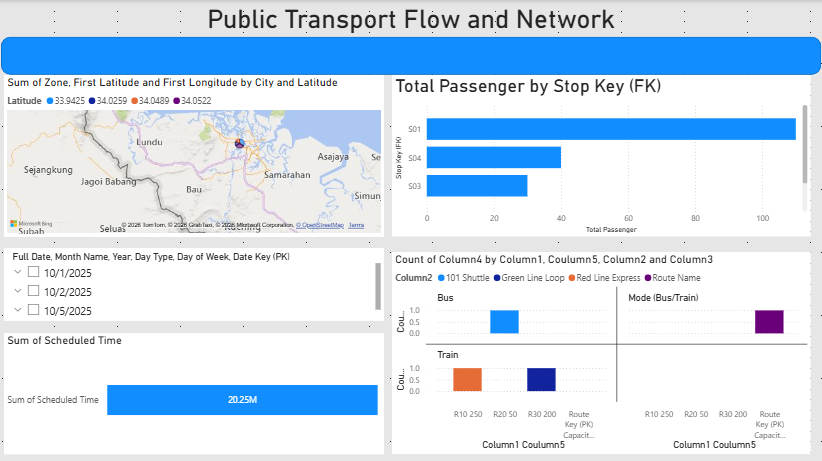

What the dashboard file says about the page in this screenshot:
{"tool":"powerbi","page":{"name":"Page 1","canvas":[1280,720],"ordinal":0},"visuals":[{"type":"map","fields":{"Series":["Dim Stop/Station.Latitude"],"Category":["Dim Stop/Station.City"],"Size":["Max(Dim Stop/Station.Zone)"],"Y":["Max(Dim Stop/Station.Longitude)"]},"box":[20.2,114.5,579.4,245.9],"z":0},{"type":"shape","title":"Public Transport Flow and Network  ","box":[15.2,6.7,1249.7,107.8],"z":1000},{"type":"barChart","fields":{"Series":["Actual Trips.Route Key (FK)"],"Y":["Actual Trips.Total Passenger"]},"box":[611.4,114.5,638.3,245.9],"z":2000},{"type":"slicer","fields":{"Values":["Dim Date.Full Date","Dim Date.Month Name","Dim Date.Year","Dim Date.Day Type","Dim Date.Day of Week","Dim Date.Date Key (PK)"]},"box":[19.8,377.9,579,114.3],"z":3000},{"type":"columnChart","fields":{"Category":["Dim Route.Column1"],"Series":["Dim Route.Column2"],"Rows":["Dim Route.Column3","Dim Route.Coulumn5"],"Y":["CountNonNull(Dim Route.Column4)"]},"box":[611.4,384,638.3,308.2],"z":4000},{"type":"funnel","fields":{"Y":["Sum(Scheduled Time.Scheduled Time)"]},"box":[20.2,506.9,579.4,185.3],"z":5000}]}

Visuals, with their boxes in screenshot pixels (x1, y1, x2, y2), scaled from the page's 1280x720 canvas onto the 822x461 screenshot:
map - Dim Stop/Station.Latitude x Dim Stop/Station.City: box=[13, 73, 385, 231]
"Public Transport Flow and Network  " shape: box=[10, 4, 812, 73]
barChart - Actual Trips.Route Key (FK) x Actual Trips.Total Passenger: box=[393, 73, 803, 231]
slicer - Dim Date.Full Date x Dim Date.Month Name: box=[13, 242, 385, 315]
columnChart - Dim Route.Column1 x Dim Route.Column2: box=[393, 246, 803, 443]
funnel - Sum(Scheduled Time.Scheduled Time): box=[13, 325, 385, 443]
